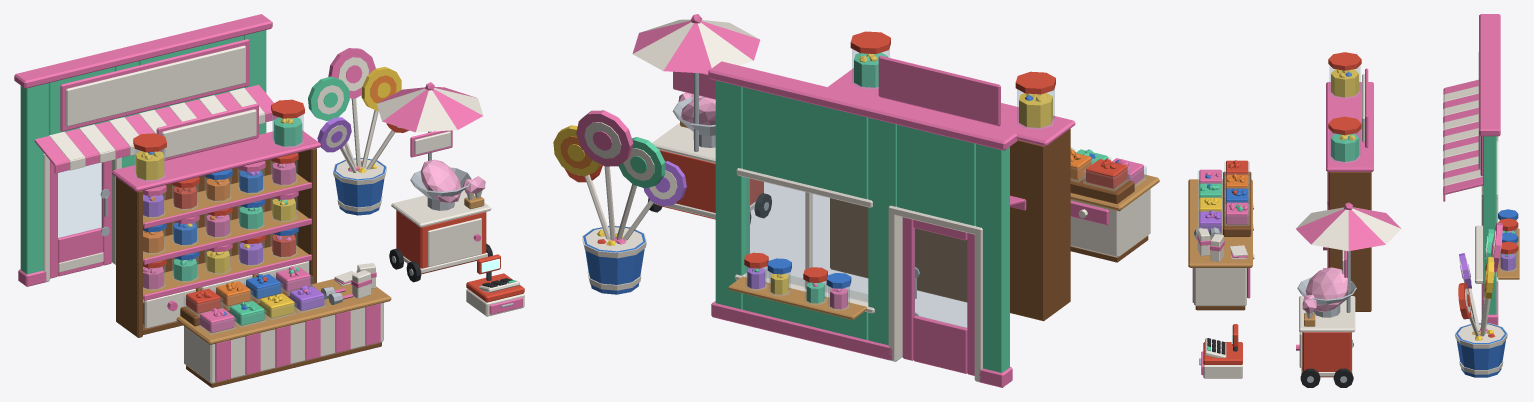
The model's file is low-poly-candy-store.glb.
The picture shows the model from 3 angles, left to right: view 1: azimuth 30°, elevation 25°; view 2: azimuth 150°, elevation 25°; view 3: azimuth 270°, elevation 25°; orthographic projection. The views are drawn at different scales.
Parts seen in each view (by area): view 1: ShopFront_Cream, ShopFront_CandyPink, Shelf_CandyJars_CandyPink, Shelf_CandyJars_Glass, Shelf_CandyJars_WoodDark, ShopFront_CandyMint, Counter_PickMix_Cream, Counter_PickMix_CandyPink, Shelf_CandyJars_Wood, Cart_CottonCandy_CandyPink, Bucket_Lollipops_Cream, Counter_PickMix_Glass (+34 smaller); view 2: ShopFront_CandyMint, Shelf_CandyJars_WoodDark, ShopFront_Glass, ShopFront_CandyPink, Shelf_CandyJars_CandyPink, ShopFront_Cream, Cart_CottonCandy_CandyPink, DoorGlass, Bucket_Lollipops_Cream, Counter_PickMix_Cream, DoorFrame.001, Shelf_CandyJars_Glass (+22 smaller); view 3: ShopFront_CandyPink, Cart_CottonCandy_CandyPink, ShopFront_Cream, Shelf_CandyJars_WoodDark, Counter_PickMix_Cream, Shelf_CandyJars_CandyPink, Counter_PickMix_Wood, Cart_CottonCandy_PaintRed, Bucket_Lollipops_Cream, Shelf_CandyJars_Glass, ShopFront_CandyMint, Cart_CottonCandy_CottonCandy (+25 smaller).
Boxes of the visible parts, <box> form: ShopFront_Cream: <box>43,45,265,282</box>; ShopFront_CandyPink: <box>14,14,278,286</box>; Shelf_CandyJars_CandyPink: <box>112,103,320,300</box>; Shelf_CandyJars_Glass: <box>134,114,303,290</box>; Shelf_CandyJars_WoodDark: <box>116,148,316,337</box>; ShopFront_CandyMint: <box>20,30,266,274</box>; Counter_PickMix_Cream: <box>184,263,383,383</box>; Counter_PickMix_CandyPink: <box>200,266,380,382</box>; Shelf_CandyJars_Wood: <box>143,173,308,298</box>; Cart_CottonCandy_CandyPink: <box>376,82,483,157</box>; Bucket_Lollipops_Cream: <box>317,57,401,212</box>; Counter_PickMix_Glass: <box>184,273,326,334</box>; ShopFront_CandyMint: <box>715,80,1009,372</box>; Shelf_CandyJars_WoodDark: <box>830,128,1070,321</box>; ShopFront_Glass: <box>745,178,867,310</box>; ShopFront_CandyPink: <box>708,61,1026,387</box>; Shelf_CandyJars_CandyPink: <box>828,55,1075,146</box>; ShopFront_Cream: <box>734,168,982,382</box>; Cart_CottonCandy_CandyPink: <box>632,14,760,99</box>; DoorGlass: <box>914,228,966,327</box>; Bucket_Lollipops_Cream: <box>578,122,677,290</box>; Counter_PickMix_Cream: <box>1070,189,1150,257</box>; DoorFrame.001: <box>913,315,967,373</box>; Shelf_CandyJars_Glass: <box>852,48,1054,129</box>; ShopFront_CandyPink: <box>1443,14,1515,325</box>; Cart_CottonCandy_CandyPink: <box>1296,202,1401,277</box>; ShopFront_Cream: <box>1443,52,1498,283</box>; Shelf_CandyJars_WoodDark: <box>1328,172,1371,311</box>; Counter_PickMix_Cream: <box>1194,228,1247,305</box>; Shelf_CandyJars_CandyPink: <box>1326,68,1373,268</box>; Counter_PickMix_Wood: <box>1188,179,1252,267</box>; Cart_CottonCandy_PaintRed: <box>1302,332,1351,377</box>; Bucket_Lollipops_Cream: <box>1455,230,1507,374</box>; Shelf_CandyJars_Glass: <box>1329,65,1360,162</box>; ShopFront_CandyMint: <box>1483,136,1515,314</box>; Cart_CottonCandy_CottonCandy: <box>1302,267,1348,313</box>.
Size of the model in its own units: 25.91 by 13.25 by 19.99.
